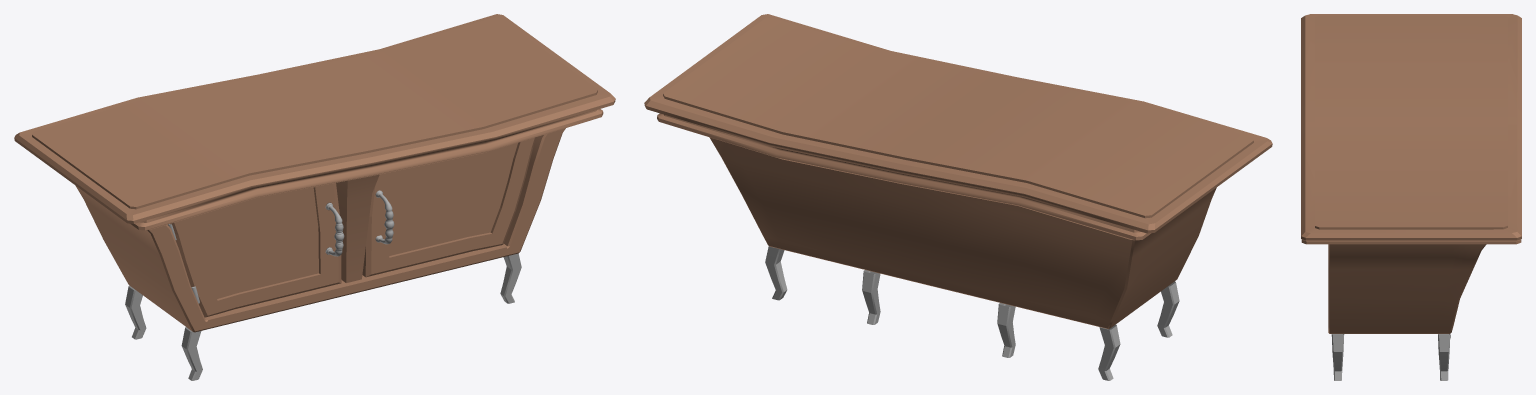
The model's file is Commode_01.fbx.
3 renders of one model, left to right at view 1: azimuth 30°, elevation 25°; view 2: azimuth 150°, elevation 25°; view 3: azimuth 270°, elevation 25°, orthographic. The views are drawn at different scales.
Parts seen in each view (by area): view 1: polySurface419; view 2: polySurface419; view 3: polySurface419.
Part boxes in pixels (bbox=[...]): polySurface419: bbox=[14, 14, 615, 380]; polySurface419: bbox=[644, 14, 1272, 380]; polySurface419: bbox=[1301, 14, 1521, 380].
Size of the model in its own units: 2.44 by 0.9718 by 1.02.
